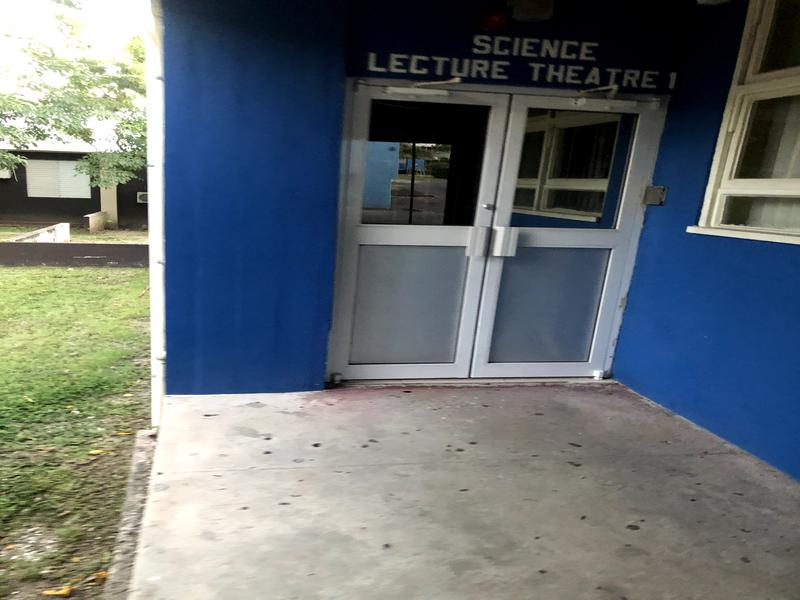18.0051836_-76.7497262_pclt1: (316, 17, 686, 405)
